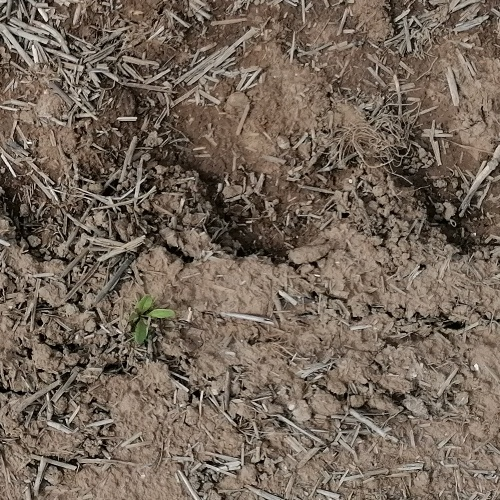beet: (130, 296, 174, 347)
